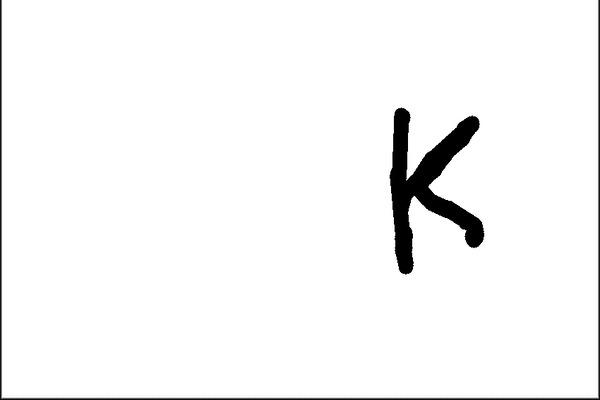K: (383, 102, 490, 281)
